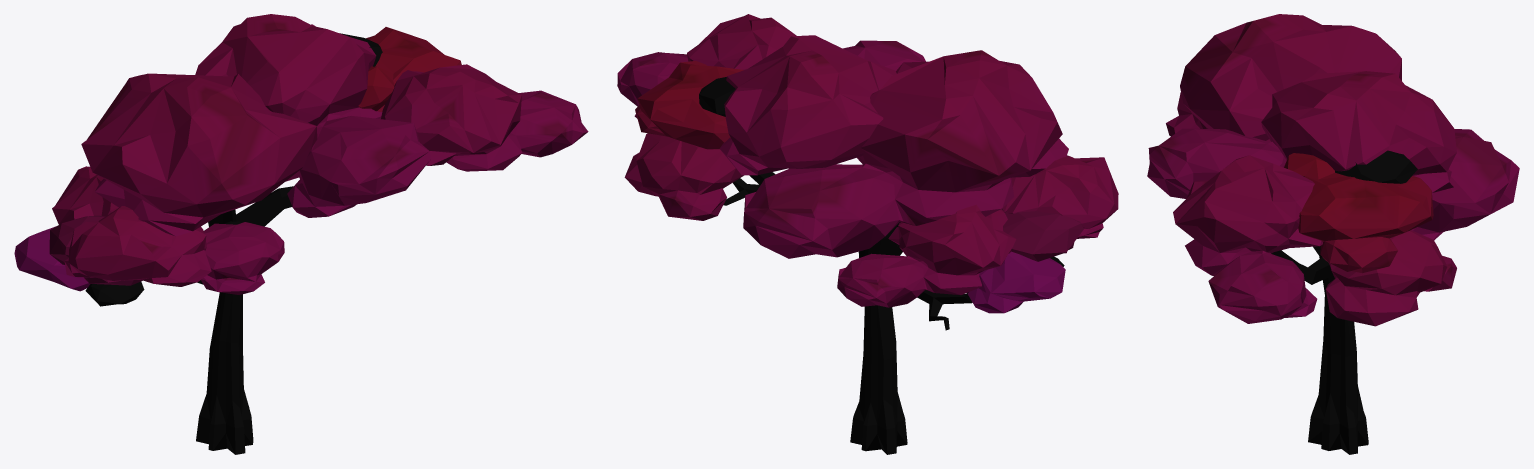
File: tree-02.glb
3 renders of one model, left to right at view 1: azimuth 30°, elevation 25°; view 2: azimuth 150°, elevation 25°; view 3: azimuth 270°, elevation 25°, orthographic. The views are drawn at different scales.
Parts seen in each view (by area): view 1: SM_Env_Tree_02; view 2: SM_Env_Tree_02; view 3: SM_Env_Tree_02.
Boxes of the visible parts, bbox=[...] form: SM_Env_Tree_02: bbox=[14, 14, 588, 454]; SM_Env_Tree_02: bbox=[617, 14, 1118, 454]; SM_Env_Tree_02: bbox=[1147, 14, 1519, 454].
Size of the model in its own units: 1497 by 1136 by 953.
Materials: 1 (1 with a texture image).
